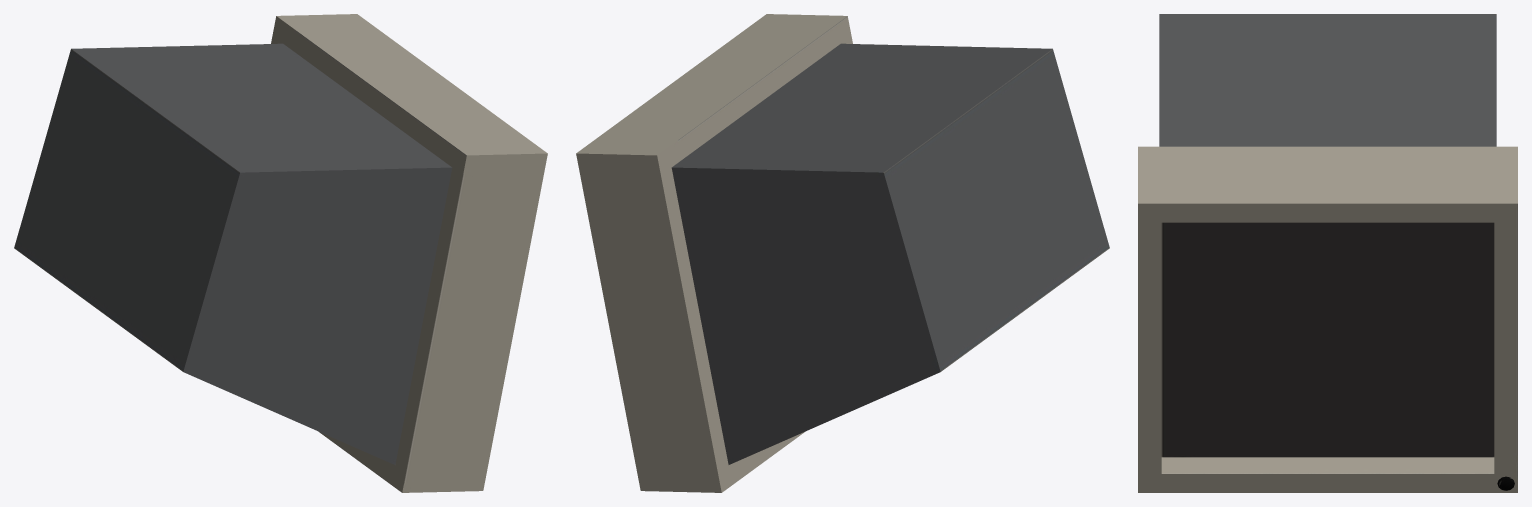
The model's file is monitor.glb.
The picture shows the model from 3 angles, left to right: view 1: azimuth 30°, elevation 25°; view 2: azimuth 150°, elevation 25°; view 3: azimuth 270°, elevation 25°; orthographic projection.
Parts seen in each view (by area): view 1: Tv-material; view 2: Tv-material; view 3: Tv-material.
Boxes of the visible parts, x1,y1,x2,y2 form: Tv-material: [14, 14, 547, 492]; Tv-material: [576, 14, 1109, 492]; Tv-material: [1138, 14, 1517, 492].
Size of the model in its own units: 0.0675 by 0.0669 by 0.0629.
Materials: 1 (1 with a texture image).
